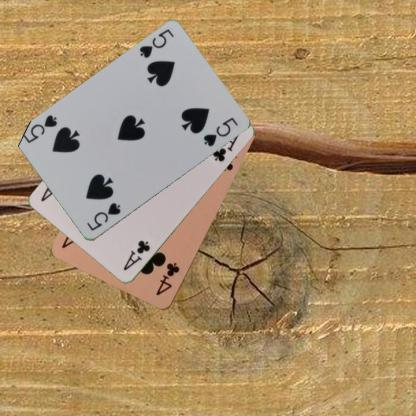4c: (153, 260, 181, 298)
5s: (136, 26, 175, 61), (84, 200, 122, 233)
Ac: (120, 238, 152, 272)
